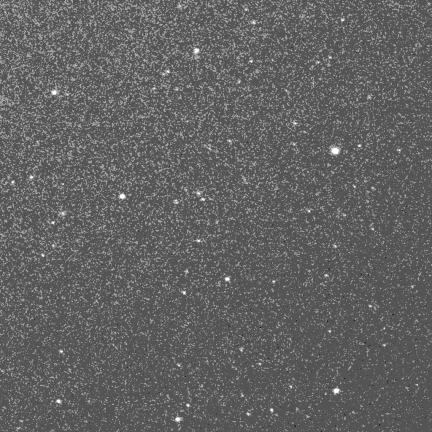blob: (332, 147, 340, 154), (333, 388, 340, 394), (52, 90, 58, 96), (175, 417, 181, 422), (194, 48, 199, 54), (225, 277, 231, 282), (119, 194, 125, 199), (197, 191, 201, 196), (173, 200, 178, 204), (56, 399, 61, 403), (201, 198, 206, 202), (252, 20, 256, 24), (329, 56, 333, 60), (240, 348, 244, 352), (289, 385, 293, 389), (237, 79, 241, 83), (270, 408, 273, 413), (328, 330, 332, 333), (259, 362, 262, 366), (197, 239, 201, 242), (11, 181, 15, 184), (341, 18, 345, 21), (369, 305, 373, 308), (247, 413, 251, 416), (42, 254, 45, 258), (182, 291, 186, 294), (186, 404, 190, 407), (249, 60, 253, 63), (30, 176, 33, 179), (372, 228, 375, 231), (325, 274, 328, 277), (52, 222, 55, 225), (358, 144, 361, 147), (60, 350, 63, 353), (273, 280, 275, 283)
